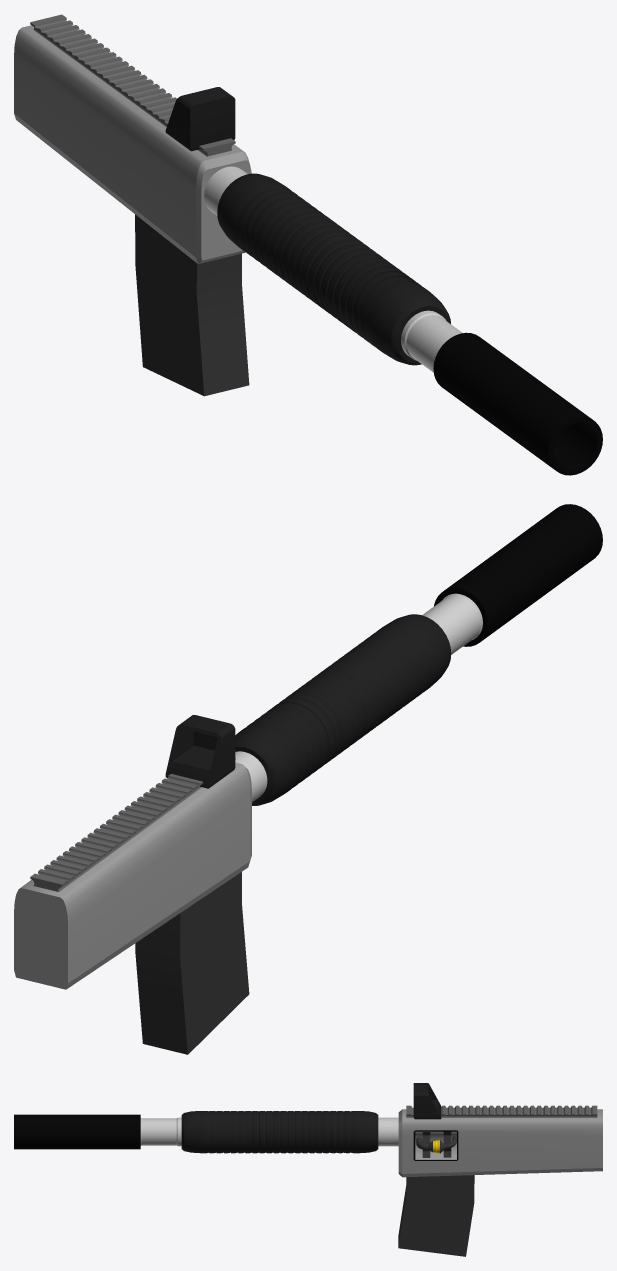
The model's file is Gun.fbx.
3 renders of one model, top to bottom at view 1: azimuth 30°, elevation 25°; view 2: azimuth 150°, elevation 25°; view 3: azimuth 270°, elevation 25°, orthographic. The views are drawn at different scales.
Visible parts, largest first — view 1: Gun; view 2: Gun; view 3: Gun.
Part boxes in pixels (x1,y1,x2,y2): Gun: (14,14,602,475); Gun: (14,504,602,1054); Gun: (14,1083,602,1256).
Size of the model in its own units: 10.54 by 39.55 by 130.
